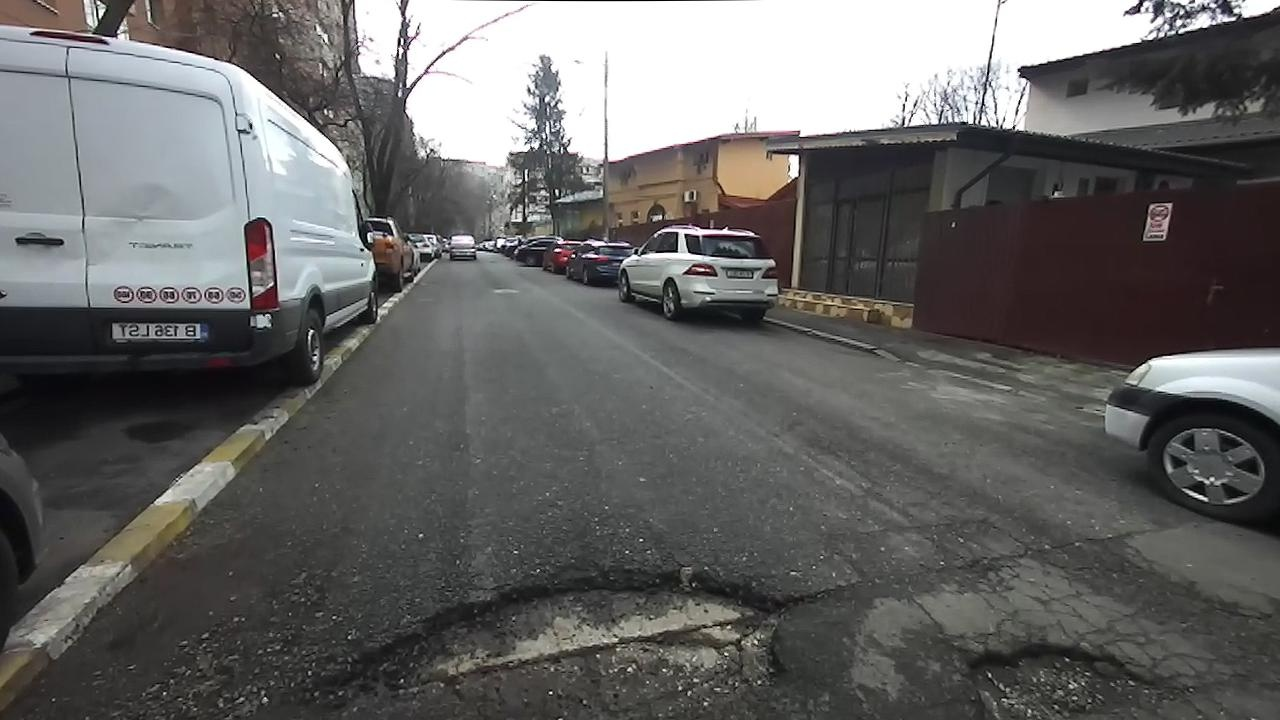pothole: (262, 557, 823, 718), (967, 636, 1200, 720)
